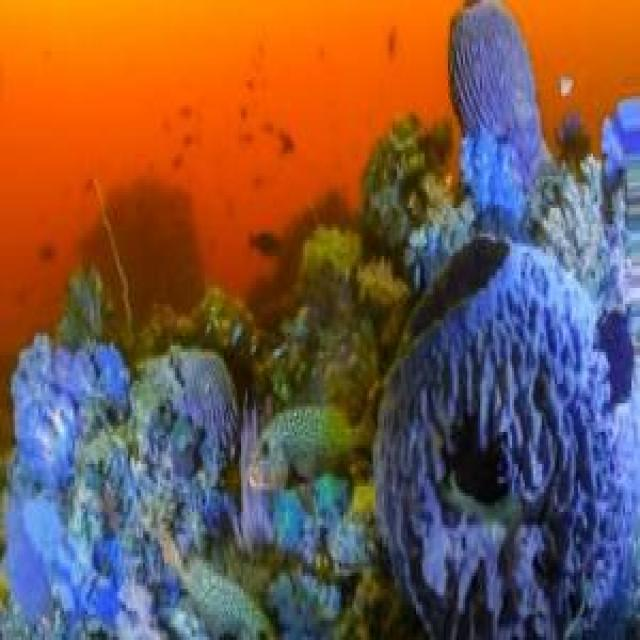Healthy: (3, 228, 408, 640), (374, 203, 640, 640), (449, 4, 545, 228)
